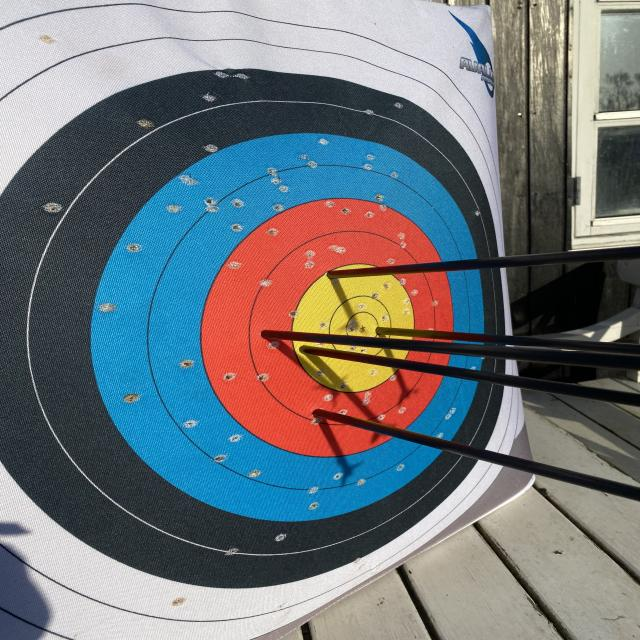Arrow_Red: (253, 318, 293, 360), (300, 393, 340, 429)
Arrow_Yellow: (320, 263, 350, 298), (373, 316, 398, 345), (296, 342, 323, 364)
